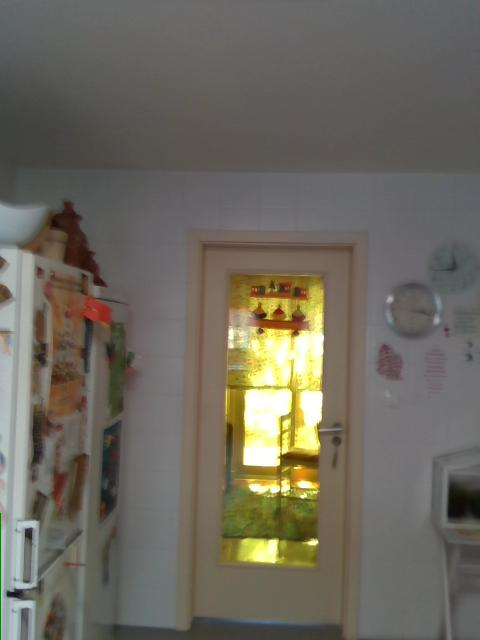door: (193, 242, 351, 639)
